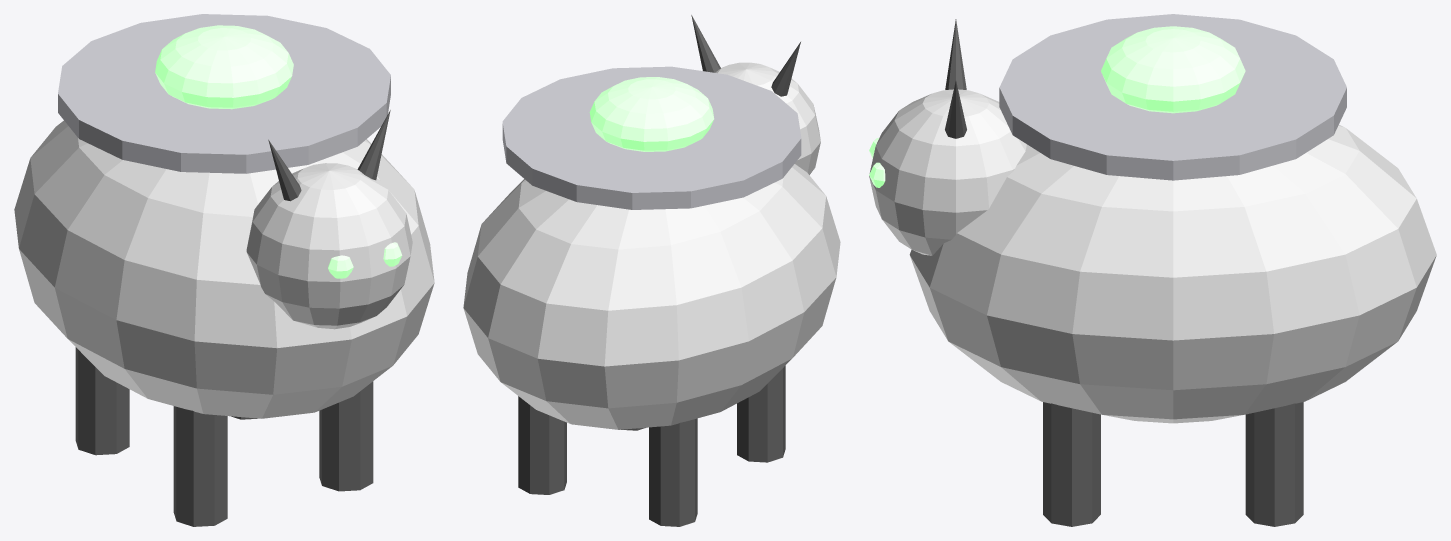
File: boss_alien_cow.glb
3 renders of one model, left to right at view 1: azimuth 30°, elevation 25°; view 2: azimuth 150°, elevation 25°; view 3: azimuth 270°, elevation 25°, orthographic. The views are drawn at different scales.
Parts seen in each view (by area): view 1: Sphere, Cylinder.004, Sphere.001, Sphere.004, Cylinder, Cylinder.002, Cylinder.001, Cone.001, Cone; view 2: Sphere, Cylinder.004, Sphere.004, Cylinder.001, Cylinder.003, Cylinder, Sphere.001, Cone, Cone.001; view 3: Sphere, Cylinder.004, Sphere.001, Sphere.004, Cylinder.003, Cylinder.002, Cone, Cone.001.
Boxes of the visible parts, x1=… form: Sphere: x1=14, y1=120, x2=434, y2=418; Cylinder.004: x1=58, y1=14, x2=390, y2=173; Sphere.001: x1=246, y1=163, x2=412, y2=329; Sphere.004: x1=155, y1=25, x2=293, y2=109; Cylinder: x1=173, y1=406, x2=227, y2=526; Cylinder.002: x1=319, y1=381, x2=373, y2=491; Cylinder.001: x1=75, y1=347, x2=129, y2=455; Cone.001: x1=357, y1=110, x2=390, y2=180; Cone: x1=268, y1=139, x2=301, y2=201; Sphere: x1=463, y1=164, x2=840, y2=429; Cylinder.004: x1=502, y1=66, x2=801, y2=209; Sphere.004: x1=589, y1=77, x2=714, y2=151; Cylinder.001: x1=649, y1=418, x2=697, y2=526; Cylinder.003: x1=518, y1=396, x2=566, y2=494; Cylinder: x1=737, y1=365, x2=785, y2=462; Sphere.001: x1=715, y1=62, x2=820, y2=174; Cone: x1=771, y1=42, x2=800, y2=96; Cone.001: x1=691, y1=15, x2=720, y2=72; Sphere: x1=909, y1=124, x2=1436, y2=423; Cylinder.004: x1=999, y1=14, x2=1346, y2=180; Sphere.001: x1=869, y1=89, x2=1026, y2=255; Sphere.004: x1=1101, y1=26, x2=1245, y2=113; Cylinder.003: x1=1245, y1=402, x2=1303, y2=526; Cylinder.002: x1=1043, y1=402, x2=1100, y2=526; Cone: x1=945, y1=19, x2=966, y2=89; Cone.001: x1=945, y1=81, x2=966, y2=138.
Size of the model in its own units: 9.8 by 11.73 by 13.72.
